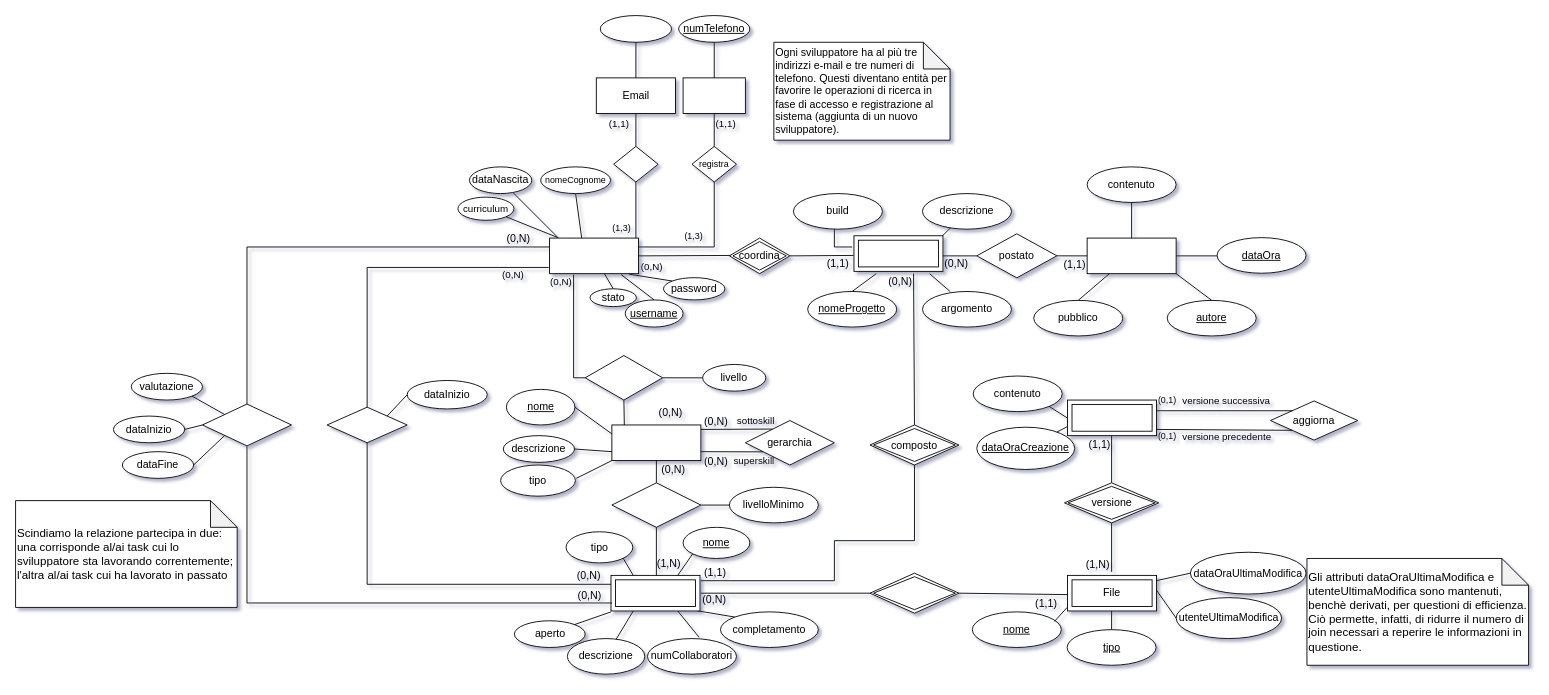
The diagram is 1549 pixels wide and 695 high, and some of its shapes have lost their labels. Here are the shapes that lost their labels. From the top down, the centre of each, then its label:
At point 635,28: "indirizzoEmail".
At point 713,95: "Telefono".
At point 635,164: "ha".
At point 594,255: "Sviluppatore".
At point 898,253: "Progetto".
At point 1131,255: "Messaggio".
At point 623,377: "possiede".
At point 246,424: "haPartecipato".
At point 366,424: "partecipa".
At point 1112,417: "Versione File".
At point 656,442: "Skill".
At point 656,504: "richiede".
At point 655,592: "Task".
At point 914,592: "associato".
